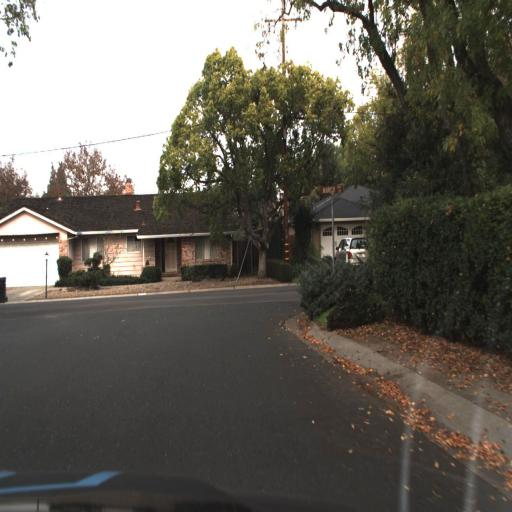car: (333, 235, 371, 272)
